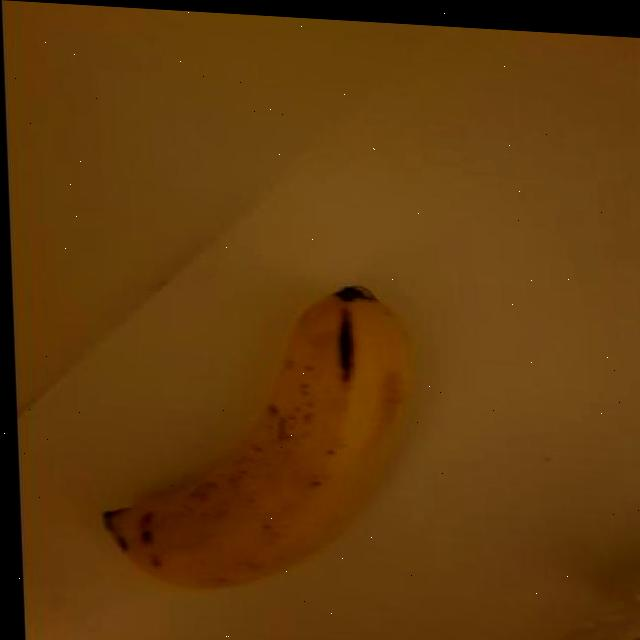banana: (82, 264, 434, 610)
